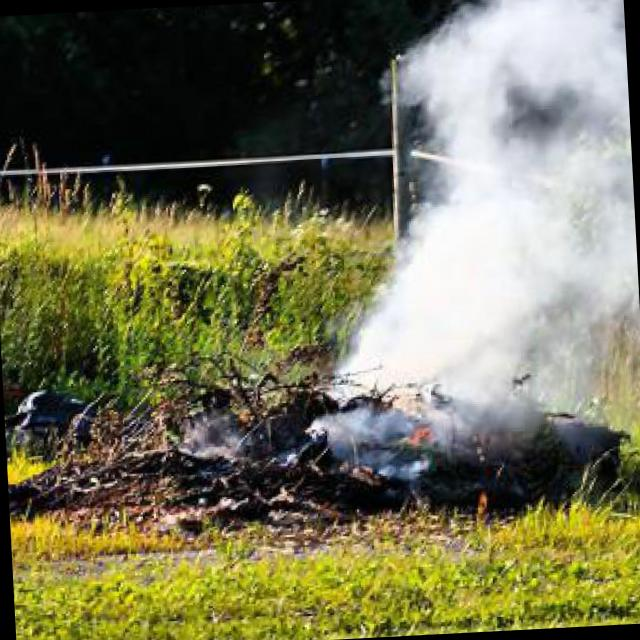smoke: (291, 0, 640, 466), (180, 394, 249, 474)
